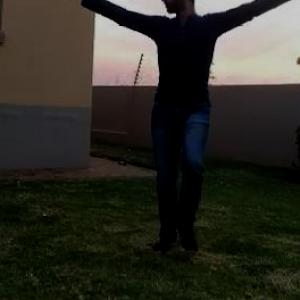takeoff: (52, 0, 299, 288)
